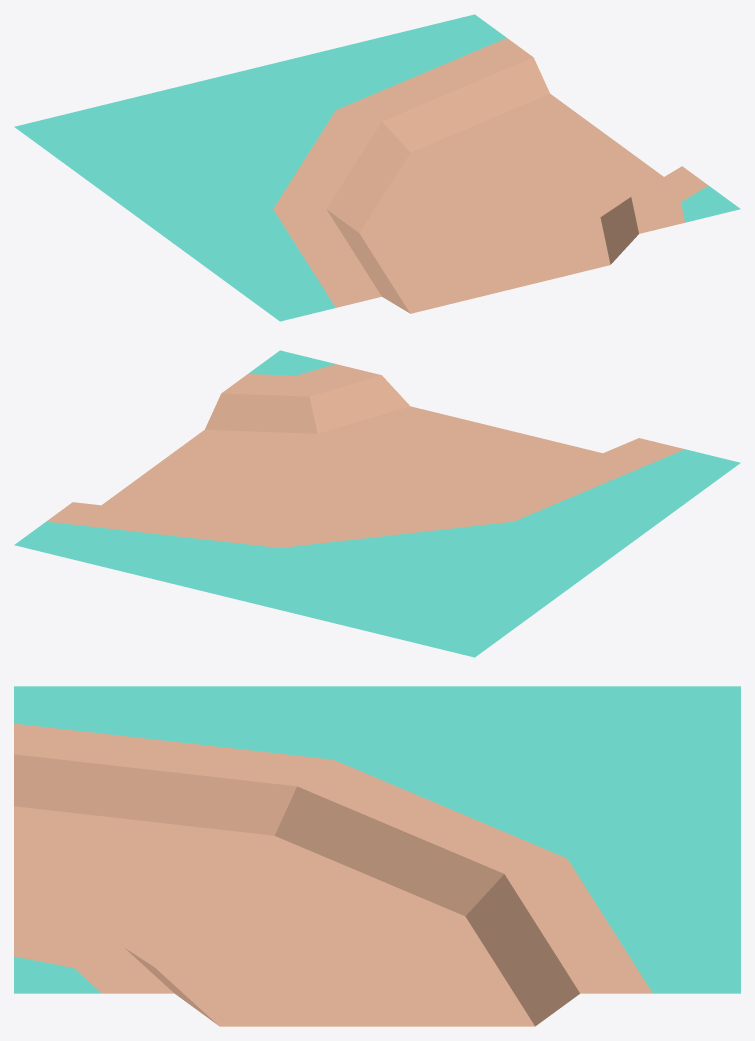
File: ground_pathbend.glb
3 views of the same model, one above another, from view 1: azimuth 30°, elevation 25°; view 2: azimuth 150°, elevation 25°; view 3: azimuth 270°, elevation 25° (orthographic). The views are drawn at different scales.
Visible parts, largest first — view 1: ground_pathBend; view 2: ground_pathBend; view 3: ground_pathBend.
Boxes of the visible parts, bbox=[...] form: ground_pathBend: bbox=[14, 14, 740, 321]; ground_pathBend: bbox=[14, 350, 740, 657]; ground_pathBend: bbox=[14, 686, 740, 1026].
Size of the model in its own units: 1 by 0.05 by 1.
